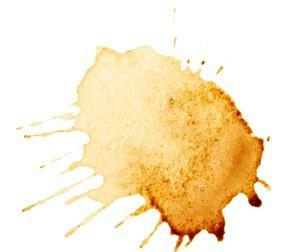gun: (18, 44, 269, 243)
